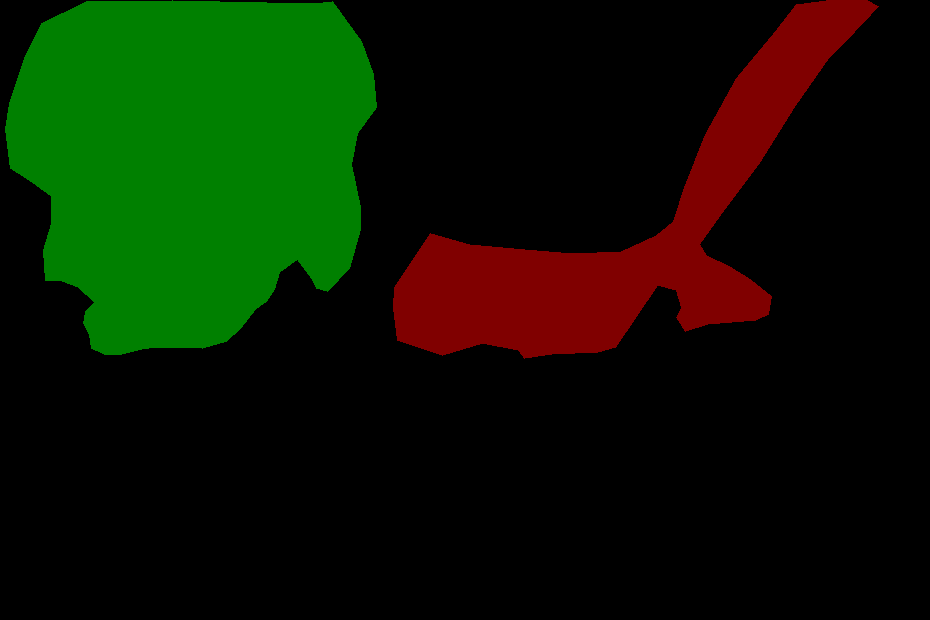fire: (393, 0, 878, 358), (5, 0, 376, 354)
